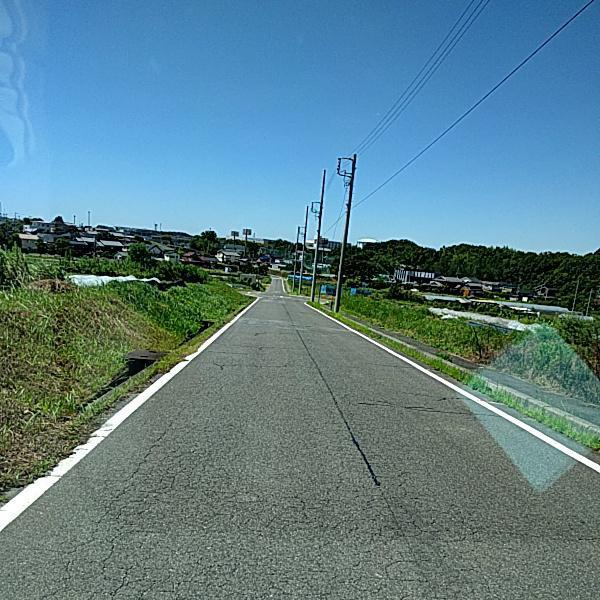D10: (355, 398, 501, 420)
D20: (93, 388, 551, 599)
